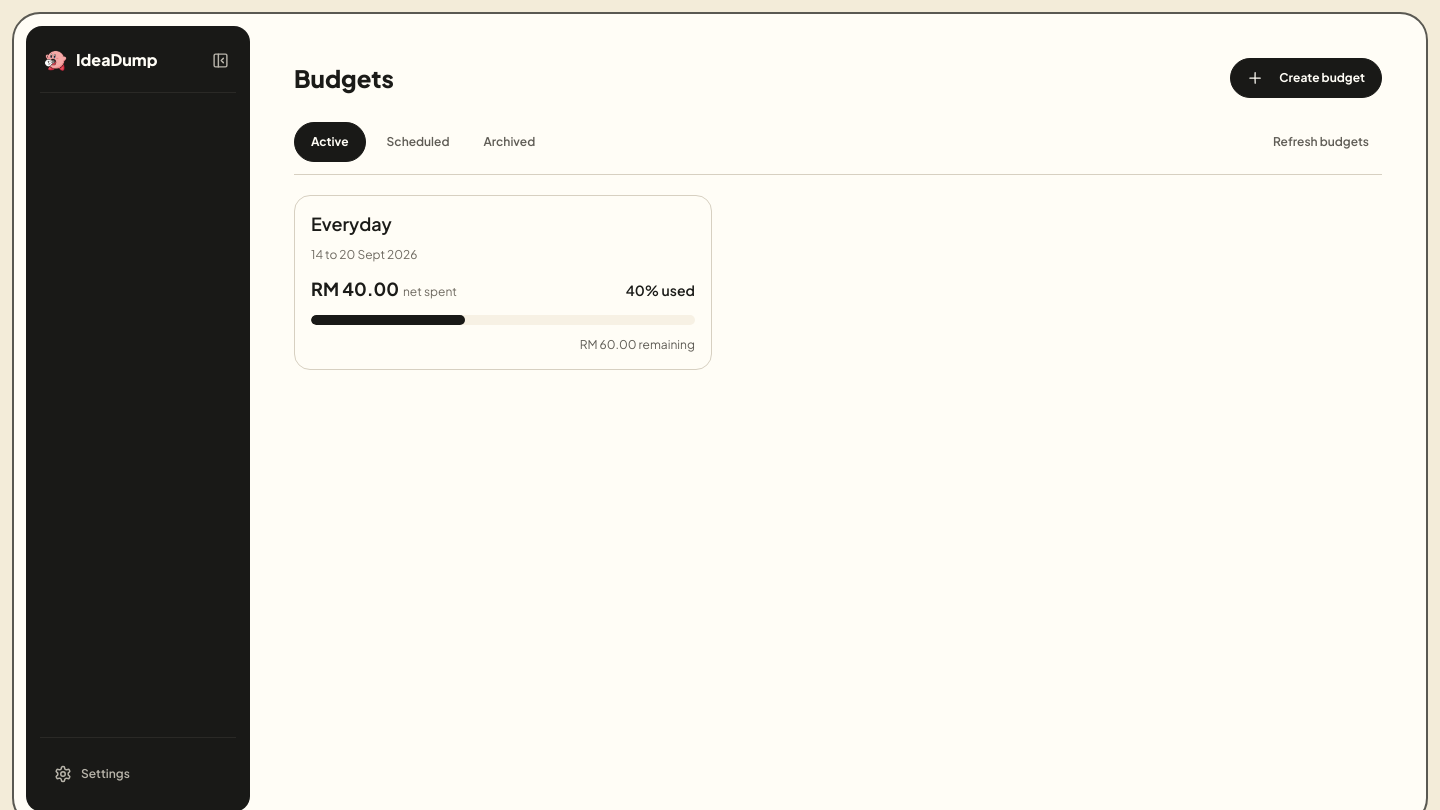
Scenario: budget list and detail loading › loads only selected details and ignores a late response after a tab switch
The image size is (1440, 810).
Click the button with aria-label "View Everyday".
click(351, 224)  # box [294, 195, 712, 370]
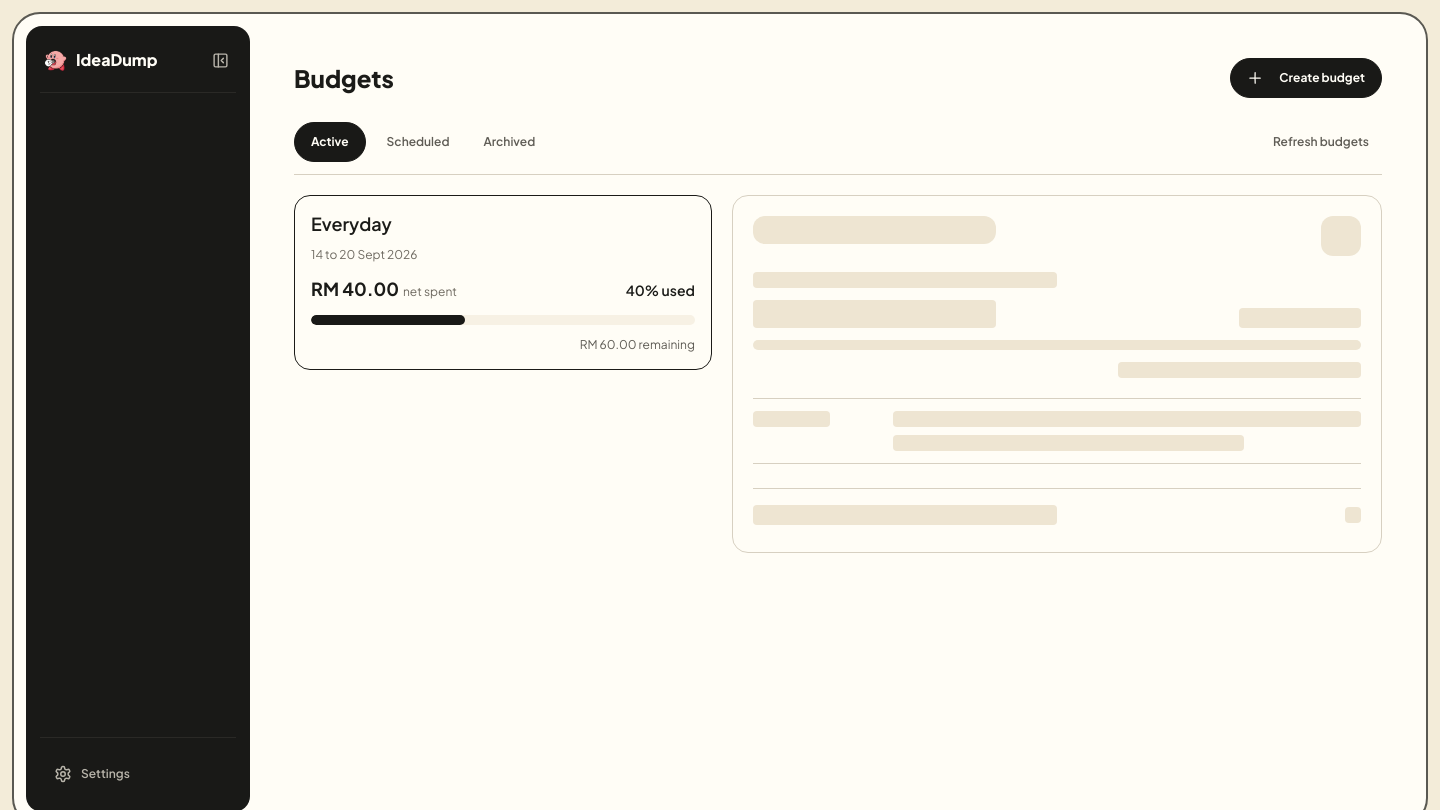
Click the button "Scheduled".
click(418, 142)  # box [374, 122, 462, 162]
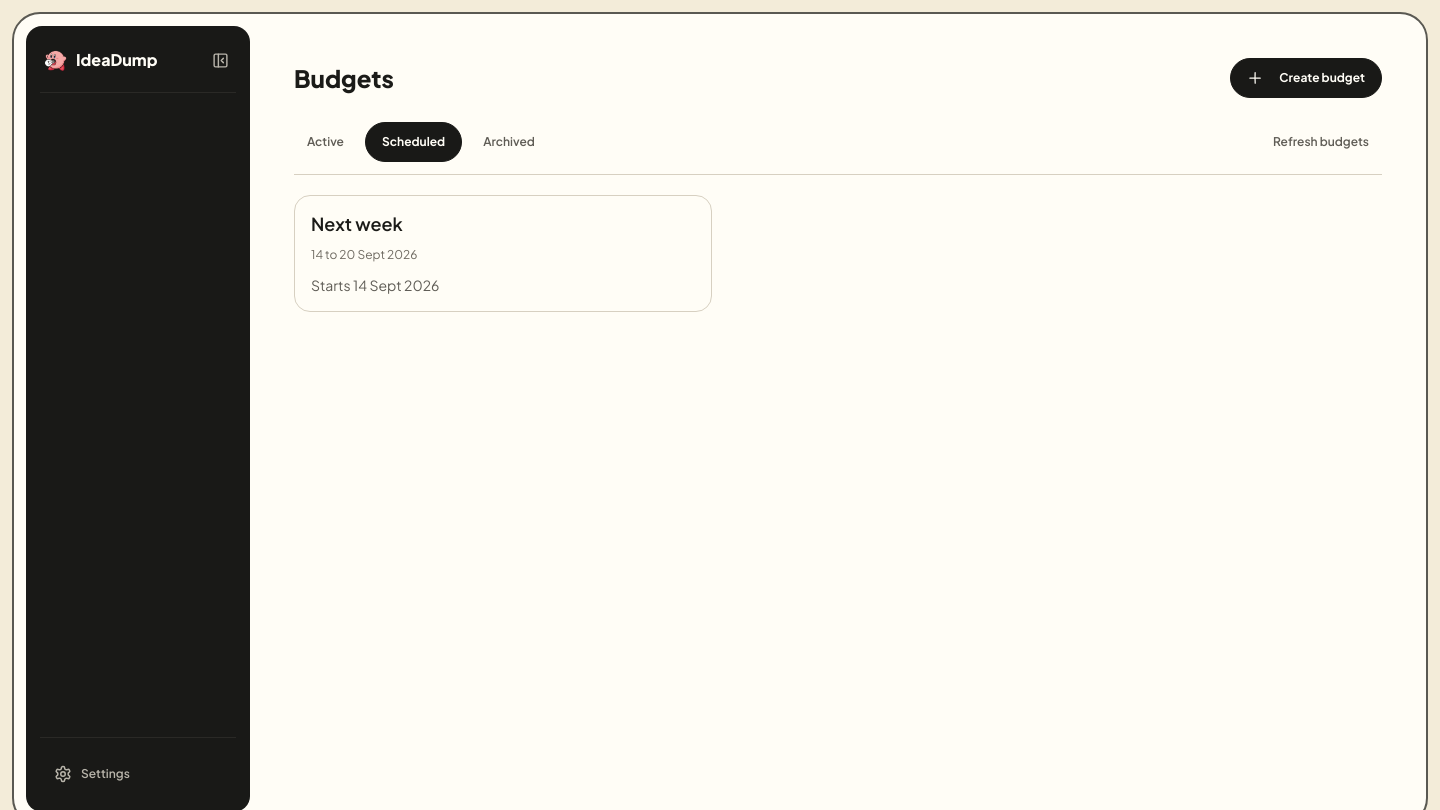
Check: the element "Loading budget details" is not shown
Click the button with aria-label "View Next week".
click(357, 224)  # box [294, 195, 712, 312]
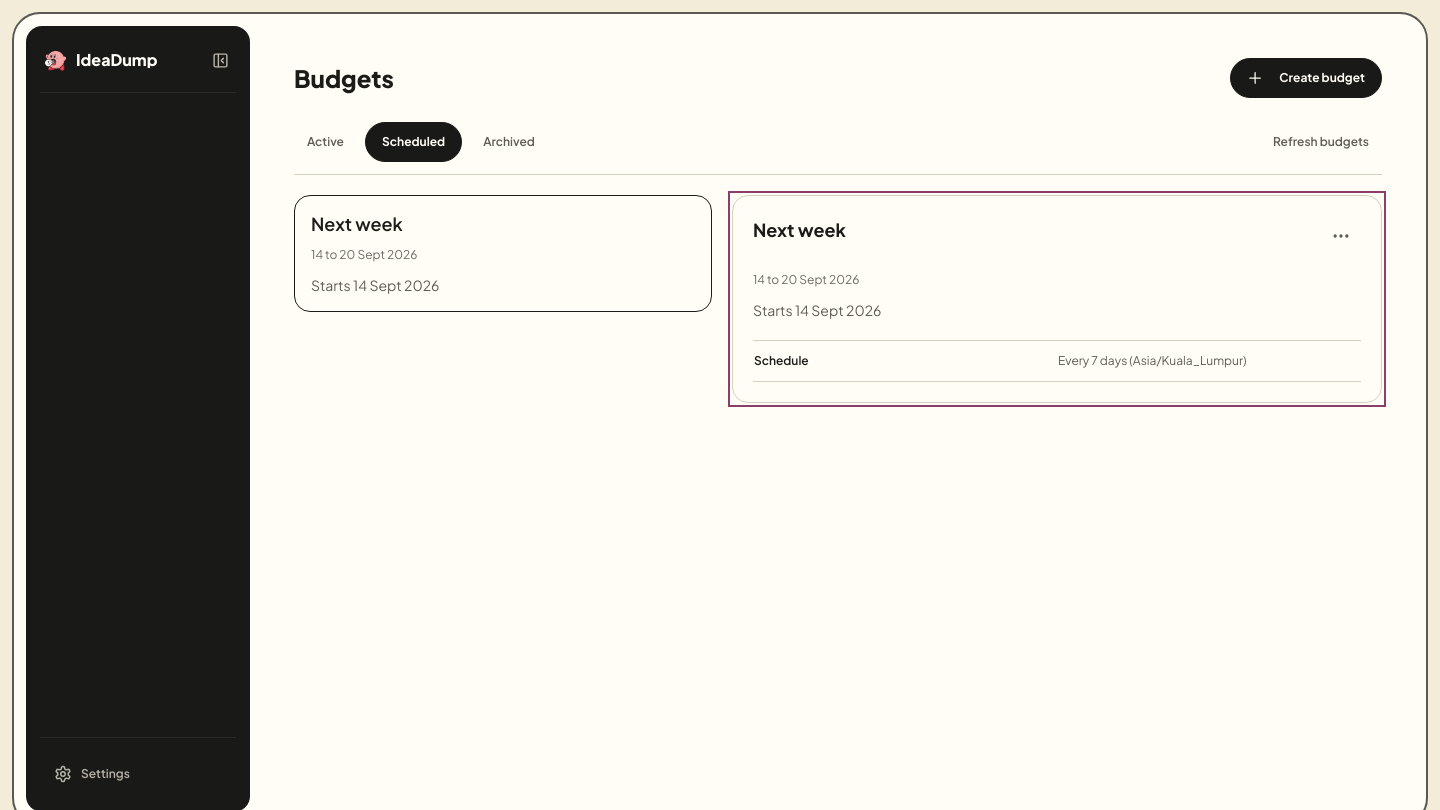
Check: the element "Loading budget details" is not shown
Check: the element named "Next week details" is shown, box [732, 195, 1382, 403]
